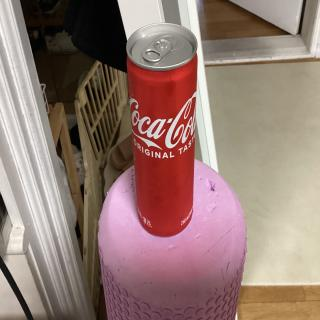cocacola: (126, 21, 200, 238)
